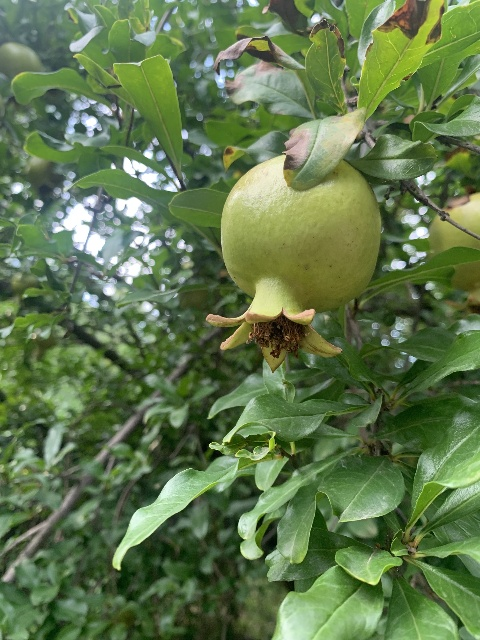mid-growth: (204, 154, 382, 374)
